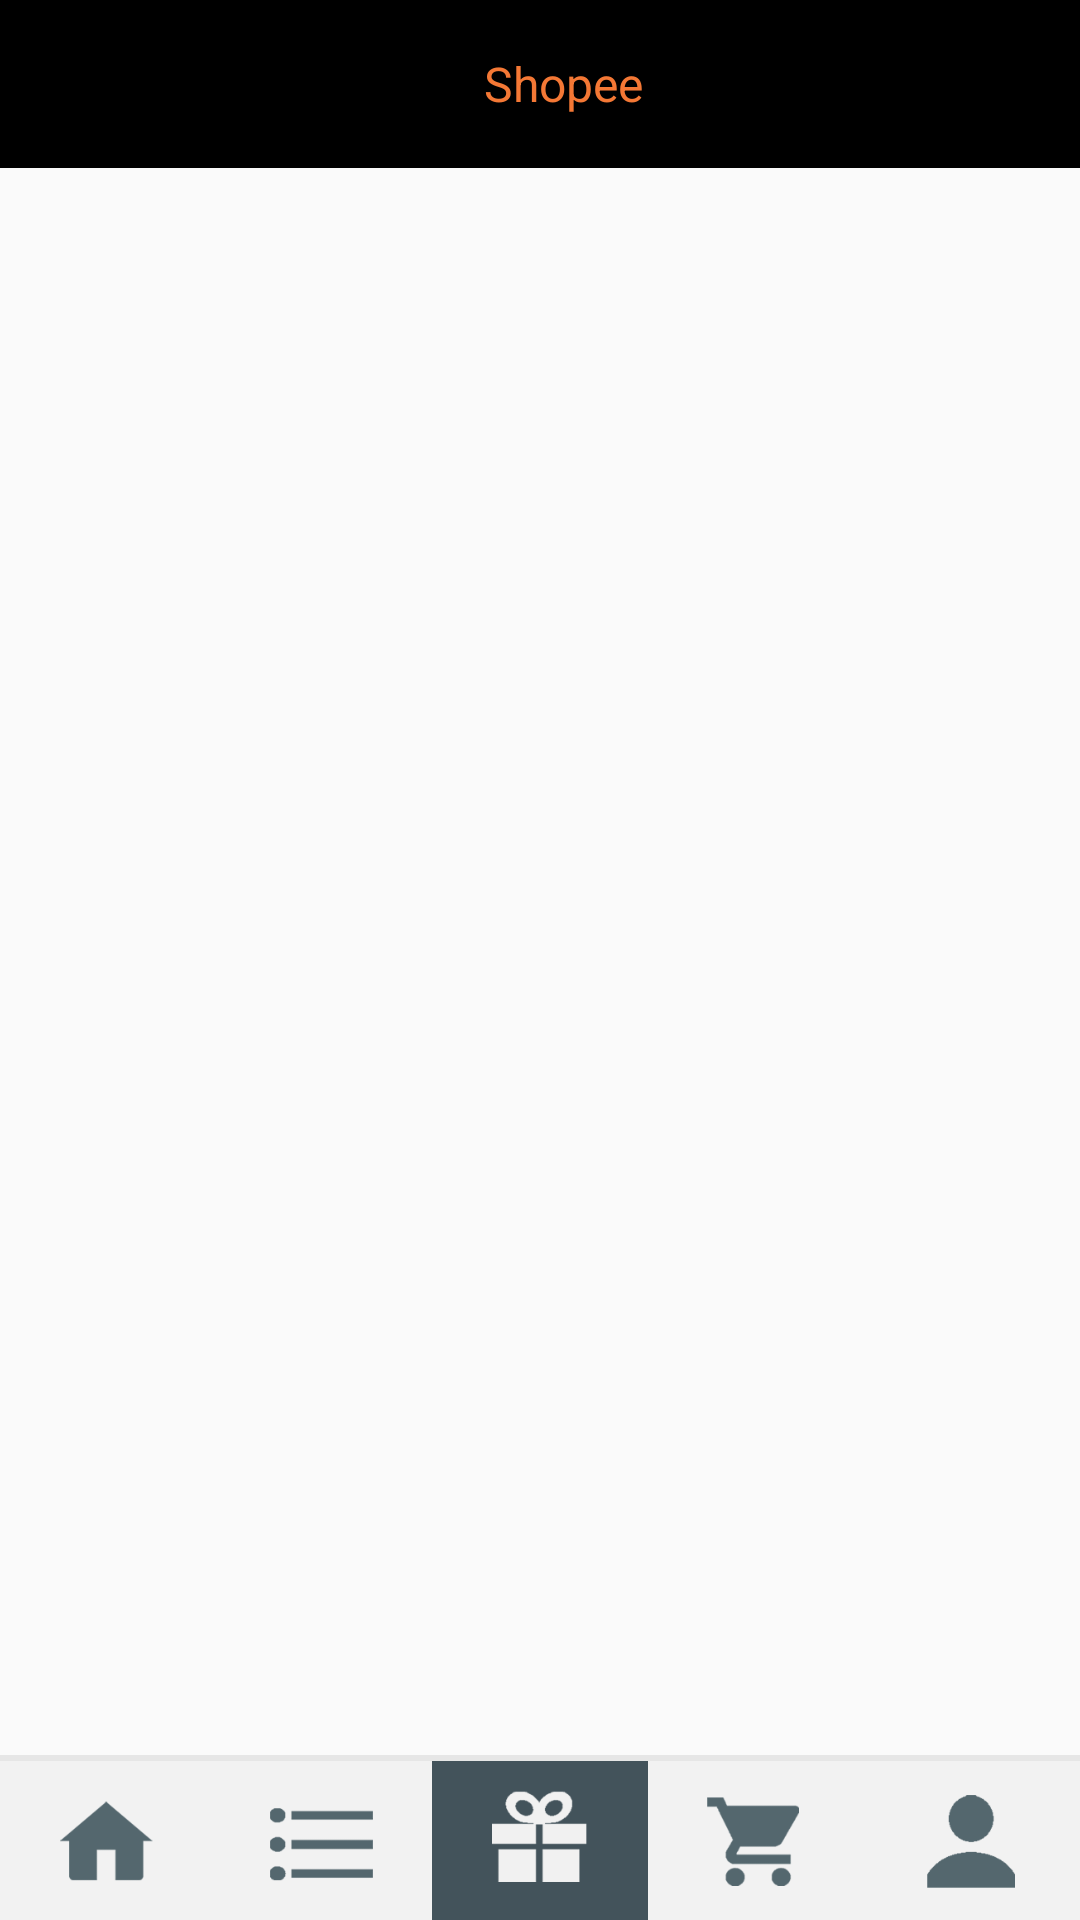

Where icons sit on this 1080px×1920px app screen, as (x1, y1, x2, y2):
account tab: (927, 1795, 1015, 1888)
cart tab: (707, 1797, 799, 1886)
category tab: (270, 1808, 373, 1881)
home tab: (60, 1801, 153, 1881)
offers tab: (432, 1761, 648, 1920)
